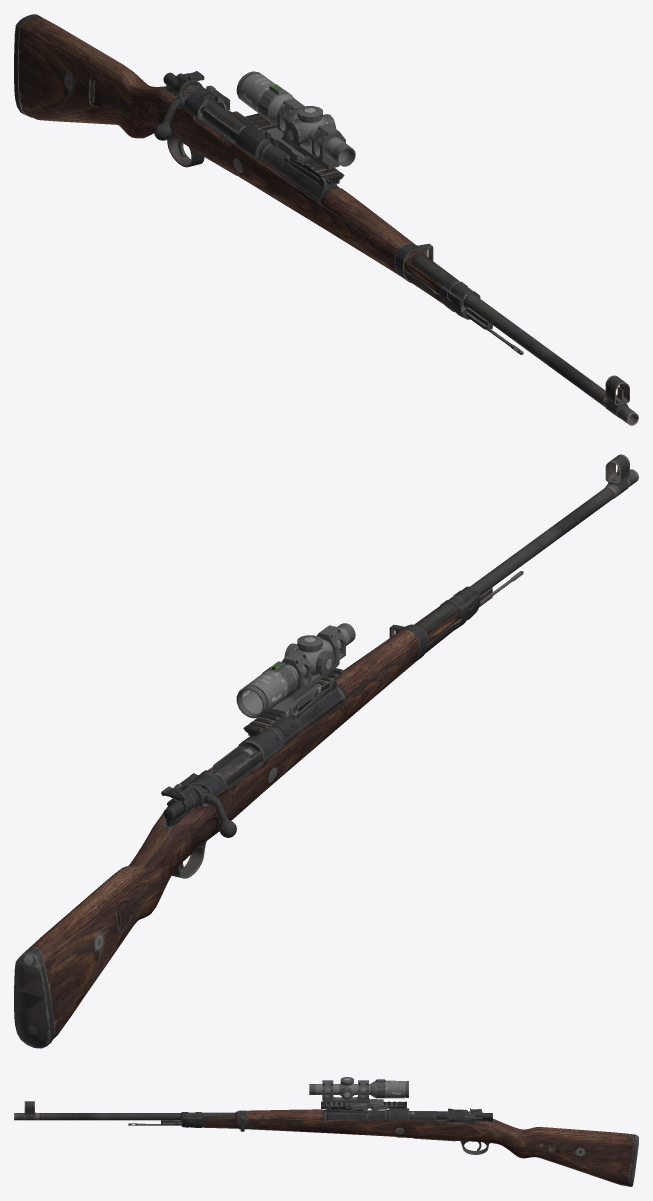
The picture shows the model from 3 angles, top to bottom: view 1: azimuth 30°, elevation 25°; view 2: azimuth 150°, elevation 25°; view 3: azimuth 270°, elevation 25°; orthographic projection. The views are drawn at different scales.
Parts seen in each view (by area): view 1: Mesh_0004.rip, Mesh_0001.rip, Mesh_0016.rip, Mesh_0010.rip, Mesh_0007.rip, Mesh_0013.rip; view 2: Mesh_0004.rip, Mesh_0001.rip, Mesh_0016.rip, Mesh_0010.rip, Mesh_0013.rip, Mesh_0007.rip; view 3: Mesh_0004.rip, Mesh_0001.rip, Mesh_0016.rip, Mesh_0010.rip, Mesh_0007.rip, Mesh_0013.rip.
Boxes of the visible parts, <box> form: Mesh_0004.rip: <box>89,76,414,275</box>; Mesh_0001.rip: <box>18,17,247,156</box>; Mesh_0016.rip: <box>395,243,638,425</box>; Mesh_0010.rip: <box>236,71,355,169</box>; Mesh_0007.rip: <box>243,113,344,188</box>; Mesh_0013.rip: <box>14,14,41,117</box>; Mesh_0004.rip: <box>117,630,420,932</box>; Mesh_0001.rip: <box>28,746,261,1039</box>; Mesh_0016.rip: <box>389,454,638,661</box>; Mesh_0010.rip: <box>236,623,355,718</box>; Mesh_0013.rip: <box>14,947,54,1048</box>; Mesh_0007.rip: <box>243,668,344,737</box>; Mesh_0004.rip: <box>246,1108,554,1154</box>; Mesh_0001.rip: <box>409,1108,633,1185</box>; Mesh_0016.rip: <box>14,1101,246,1131</box>; Mesh_0010.rip: <box>309,1077,408,1110</box>; Mesh_0007.rip: <box>321,1101,406,1113</box>; Mesh_0013.rip: <box>627,1134,638,1186</box>.
Size of the model in its own units: 0.3827 by 1.24 by 6.58.
Materials: 6 (6 with a texture image).
